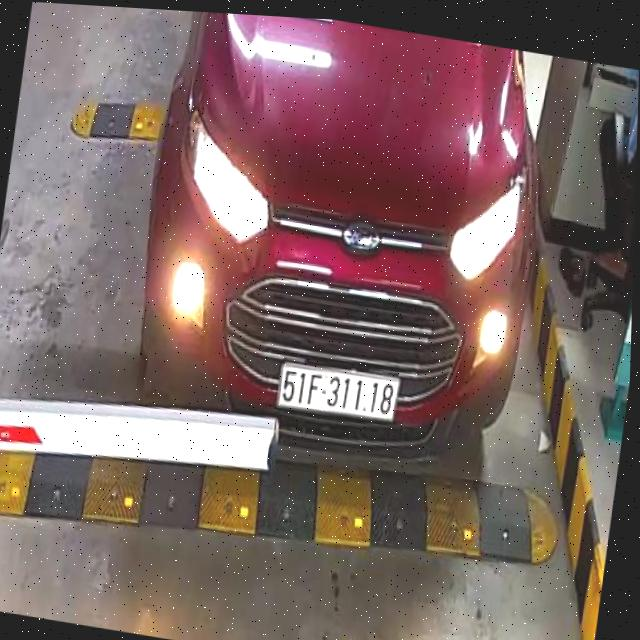car: (113, 8, 570, 490)
plate: (265, 352, 403, 432)
